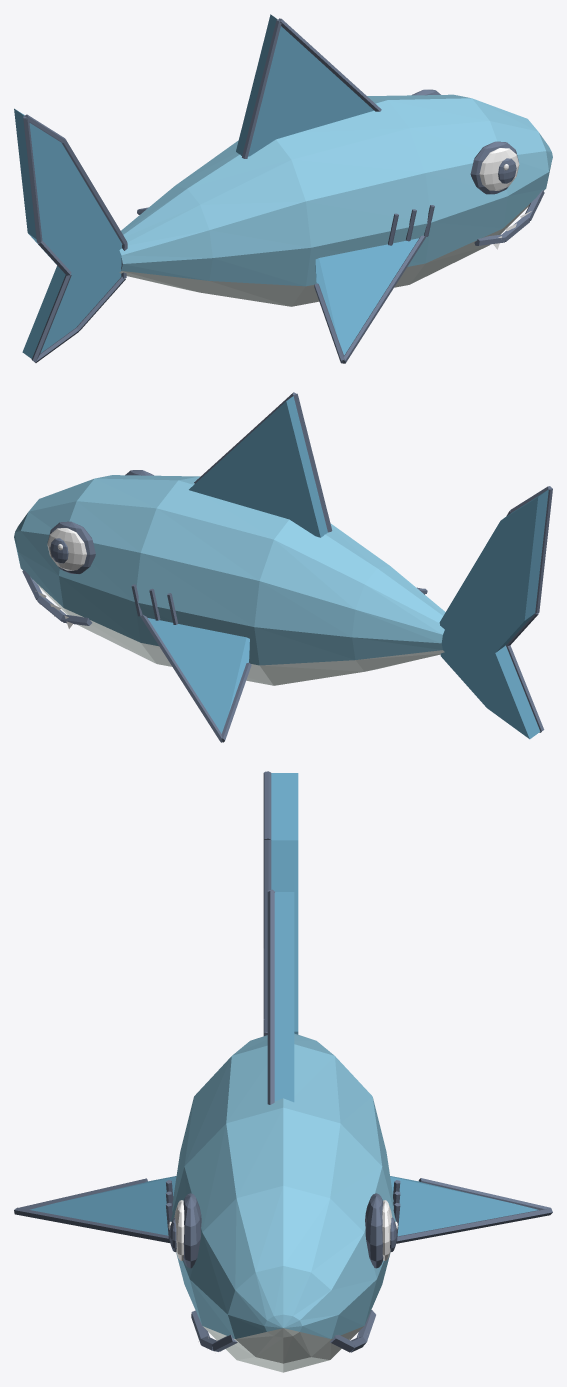
File: shark.glb
3 views of the same model, one above another, from view 1: azimuth 30°, elevation 25°; view 2: azimuth 150°, elevation 25°; view 3: azimuth 270°, elevation 25° (orthographic). The views are drawn at different scales.
Parts seen in each view (by area): view 1: Body blue, Body blueDark, Tail blueDark, Body ink, Body belly, Tail ink, Body white; view 2: Body blue, Body blueDark, Tail blueDark, Body ink, Body belly, Tail ink, Body white; view 3: Body blue, Body blueDark, Body ink, Tail blueDark, Body belly, Tail ink, Body white.
Part boxes in pixels (box(x1,y1,x2,y2)): Body blue: box(119, 94, 552, 286); Body blueDark: box(236, 14, 418, 355); Tail blueDark: box(14, 108, 122, 358); Body ink: box(137, 18, 544, 363); Body belly: box(119, 203, 530, 306); Tail ink: box(23, 114, 127, 362); Body white: box(479, 148, 531, 249); Body blue: box(14, 475, 445, 665); Body blueDark: box(148, 396, 327, 733); Tail blueDark: box(439, 489, 548, 739); Body ink: box(22, 392, 427, 742); Body belly: box(33, 580, 444, 685); Tail ink: box(506, 486, 552, 732); Body white: box(35, 528, 86, 628); Body blue: box(170, 1033, 396, 1338); Body blueDark: box(30, 892, 538, 1236); Body ink: box(14, 889, 552, 1352); Tail blueDark: box(271, 773, 298, 1034); Body belly: box(203, 1326, 363, 1372); Tail ink: box(263, 771, 271, 1035); Body white: box(168, 1200, 398, 1341).
Size of the model in its own units: 5.04 by 2.66 by 3.4.
